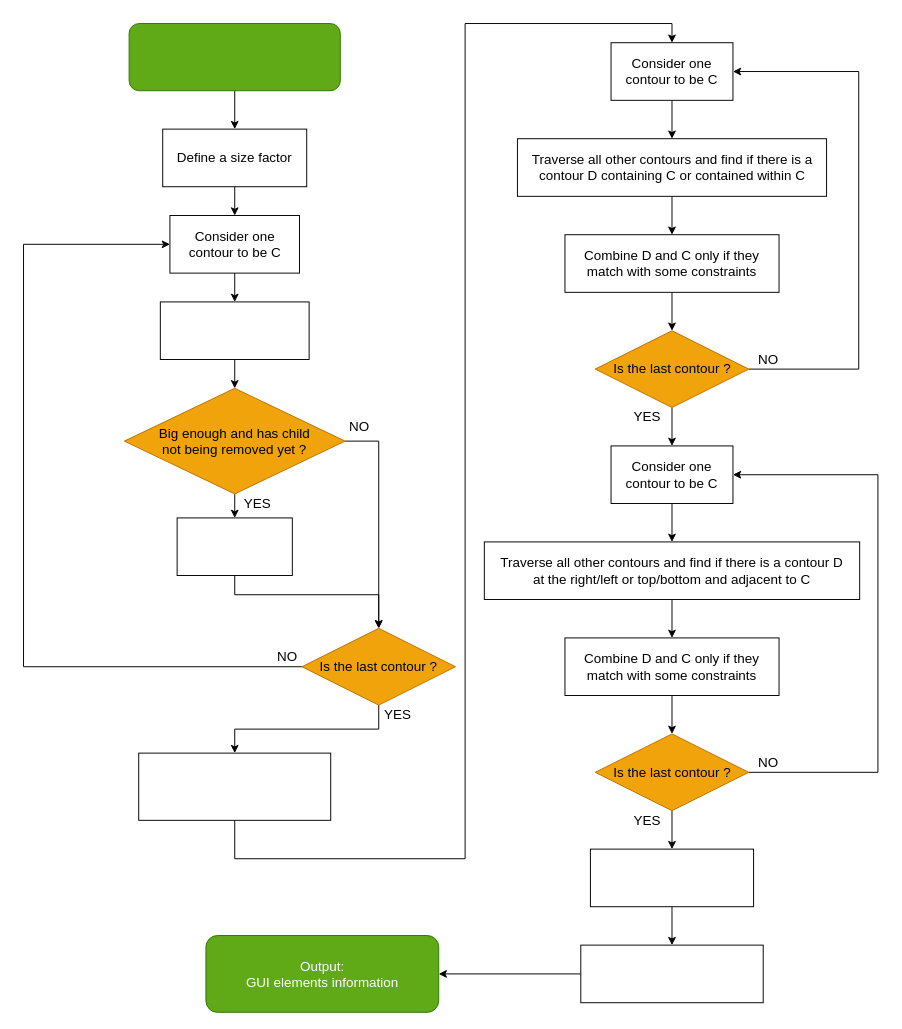
The diagram is 902 pixels wide and 1029 high, and some of its shapes have lost their labels. The shapes that lost their labels are listed below. From the top down, each one's centre as x and y in pixels, then its label:
[234,57]: Input: Contour Information with text
[234,330]: Remove small contours contained in C
[234,546]: Remove C
[234,786]: Remove all elements cropped by the edges of screen
[671,877]: Remove contours that are too small
[671,973]: Combine contours if they overlap with each other
